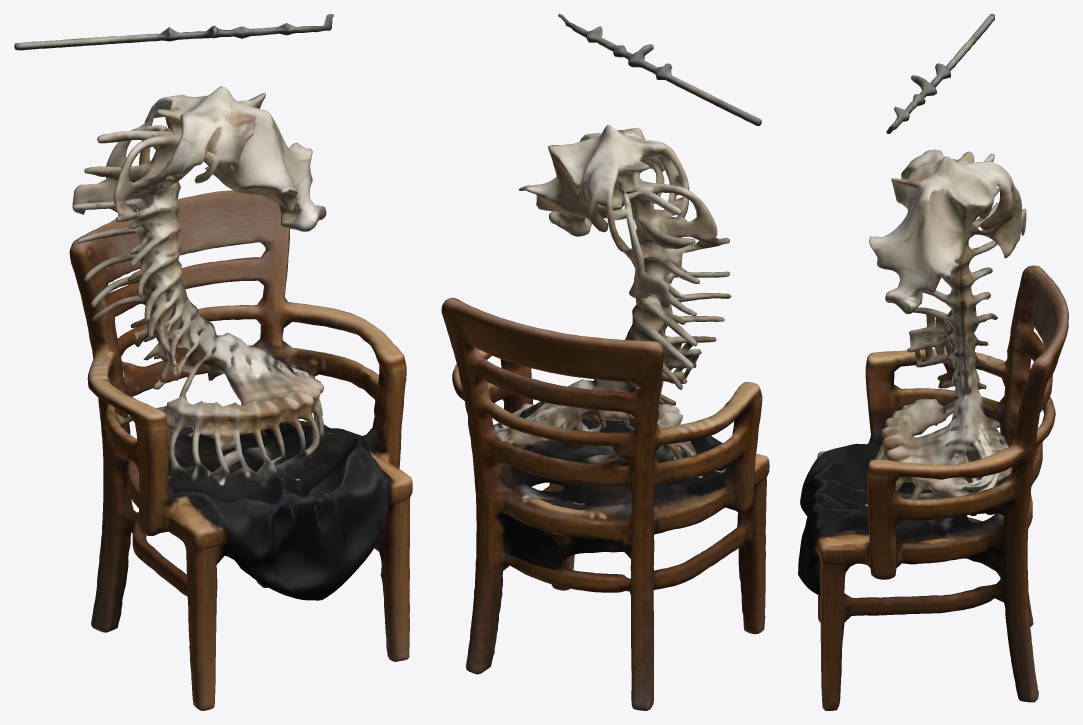
File: skeleton_chair.glb
3 views of the same model, side by side, from view 1: azimuth 30°, elevation 25°; view 2: azimuth 150°, elevation 25°; view 3: azimuth 270°, elevation 25° (orthographic). The views are drawn at different scales.
Visible parts, largest first — view 1: Skeleton Chair; view 2: Skeleton Chair; view 3: Skeleton Chair.
Boxes of the visible parts, x1,y1,x2,y2 form: Skeleton Chair: (14,14,412,710); Skeleton Chair: (441,14,769,710); Skeleton Chair: (798,14,1068,710).
Size of the model in its own units: 0.9933 by 1.8 by 0.7729.
Materials: 1 (1 with a texture image).
